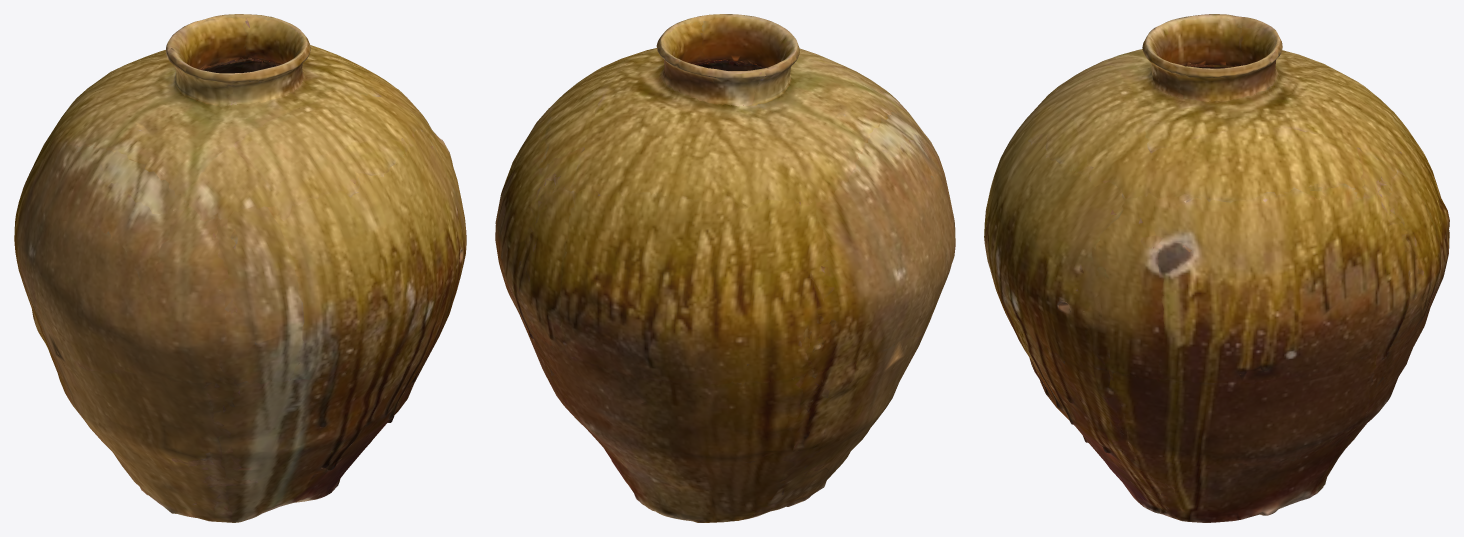
Rendered from cma-echizen-storage-jar.glb.
3 views of the same model, side by side, from view 1: azimuth 30°, elevation 25°; view 2: azimuth 150°, elevation 25°; view 3: azimuth 270°, elevation 25° (orthographic).
Visible parts, largest first — view 1: 1989.70_echizen_ware_jar; view 2: 1989.70_echizen_ware_jar; view 3: 1989.70_echizen_ware_jar.
Boxes of the visible parts, <box> form: 1989.70_echizen_ware_jar: <box>14,14,466,522</box>; 1989.70_echizen_ware_jar: <box>495,14,955,522</box>; 1989.70_echizen_ware_jar: <box>984,14,1449,522</box>.
Bounding box in the file's own units: 0.4658 × 0.4979 × 0.4755.
1 material, 1 textured.
